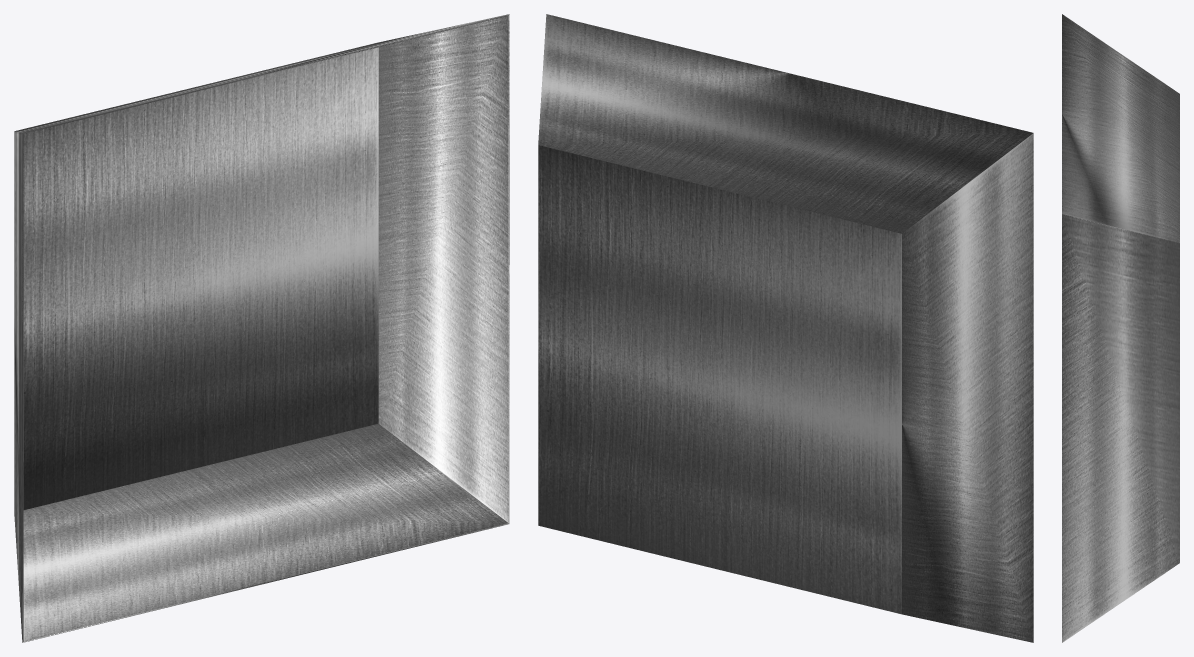
The model's file is square_plate.obj.
3 views of the same model, side by side, from view 1: azimuth 30°, elevation 25°; view 2: azimuth 150°, elevation 25°; view 3: azimuth 270°, elevation 25° (orthographic). The views are drawn at different scales.
Bounding box in the file's own units: 0.402 × 0.402 × 0.1.
1 material, 1 textured.
